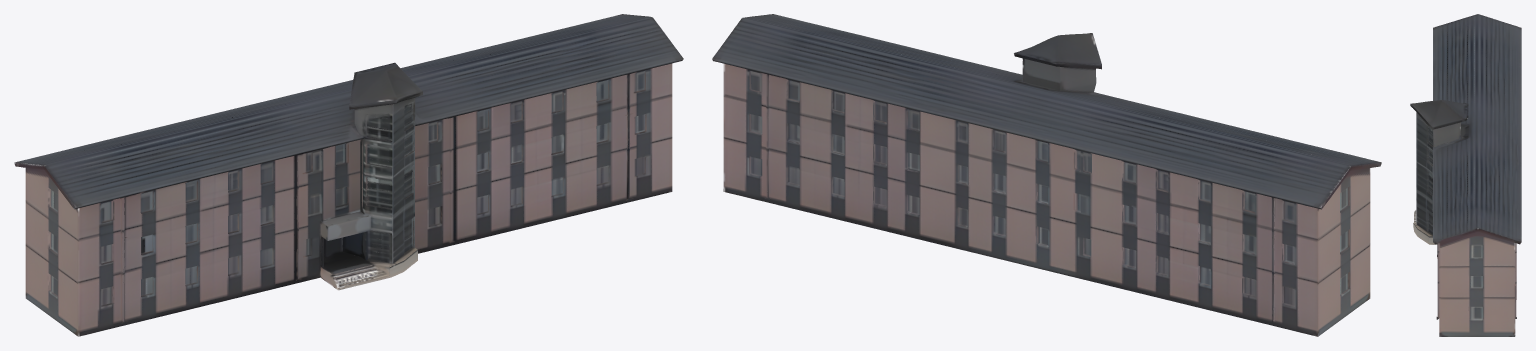
File: base_basic_shaded.fbx
3 renders of one model, left to right at view 1: azimuth 30°, elevation 25°; view 2: azimuth 150°, elevation 25°; view 3: azimuth 270°, elevation 25°, orthographic. The views are drawn at different scales.
Parts seen in each view (by area): view 1: model; view 2: model; view 3: model.
Boxes of the visible parts, <box> form: model: <box>14,14,683,336</box>; model: <box>712,14,1381,336</box>; model: <box>1410,14,1521,336</box>.
Size of the model in its own units: 188 by 55.86 by 41.31.
